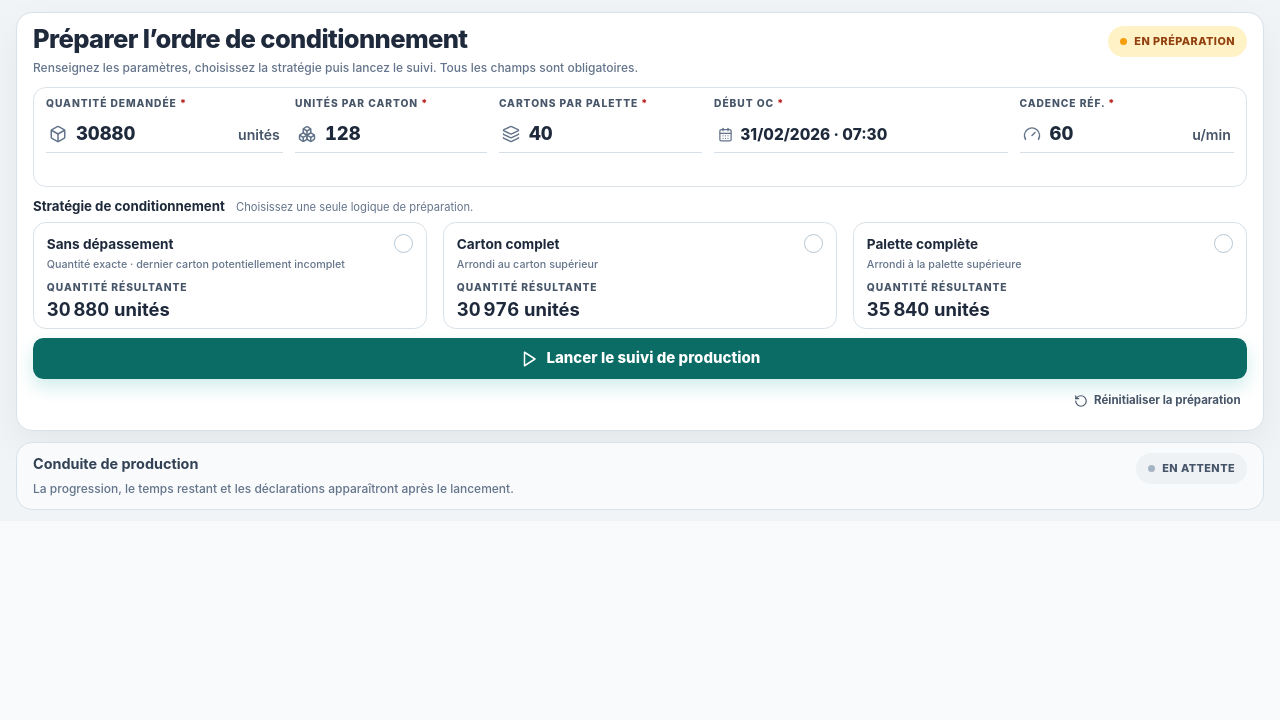
Test: PackingCalculatorPage V3 operator workflow › rejects impossible calendar dates only after a launch attempt
Click the radio button labelled "Carton complet" at point(508, 244), box [443, 222, 837, 329]
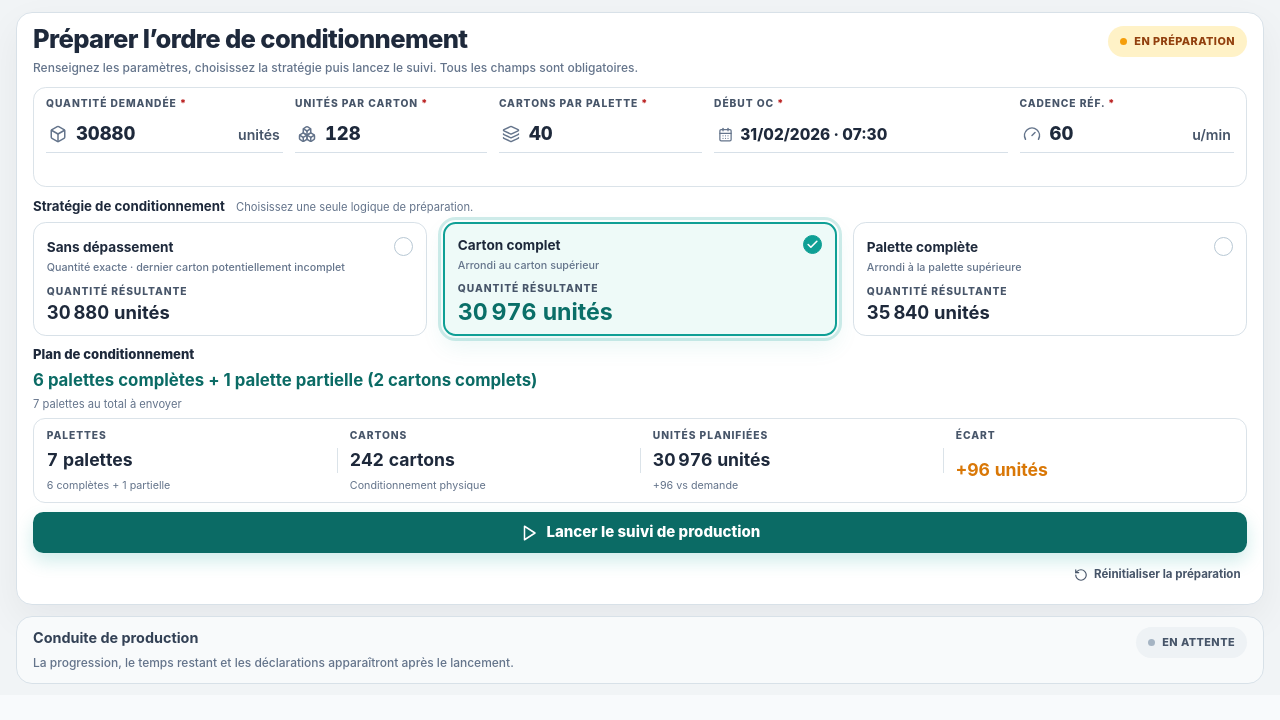
Leave the field named "Début OC", box [714, 116, 1008, 153]
expect the text "Choisissez une date et une heure valides." is not shown: met
Click the button "Lancer le suivi de production" at point(640, 533), box [33, 512, 1247, 553]
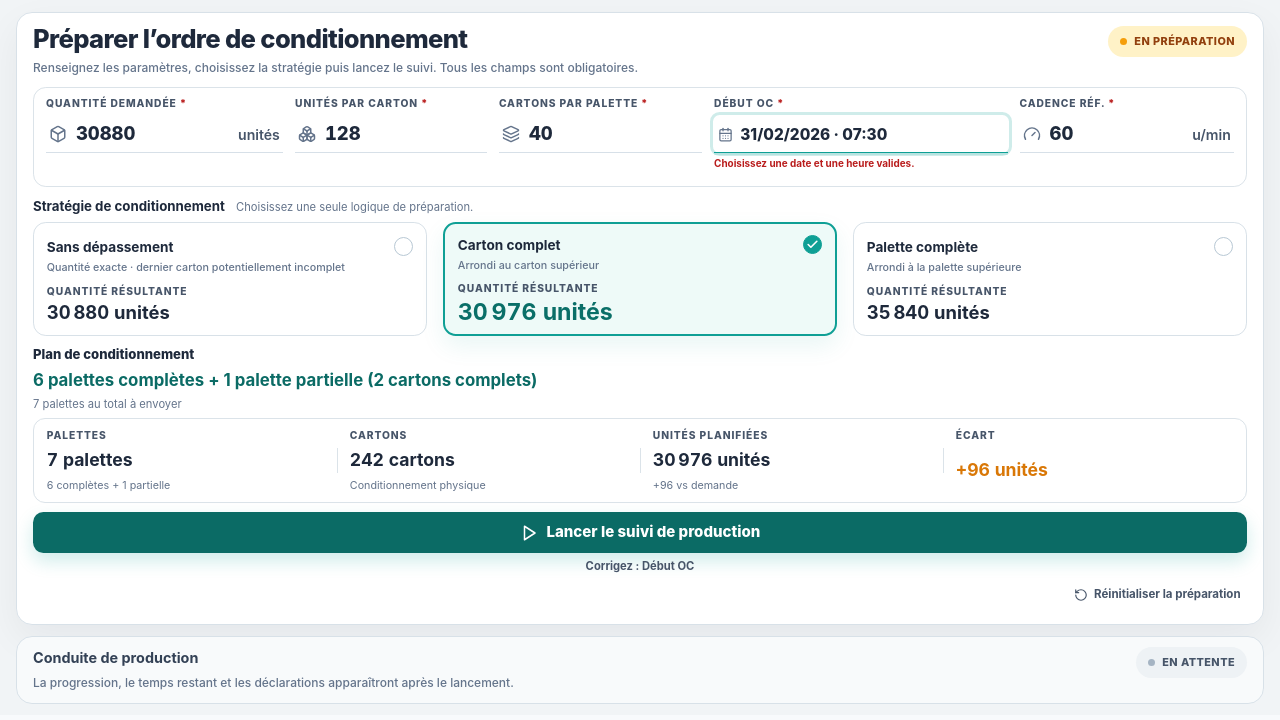
expect the text "Choisissez une date et une heure valides." is shown: met, box [714, 157, 914, 169]
